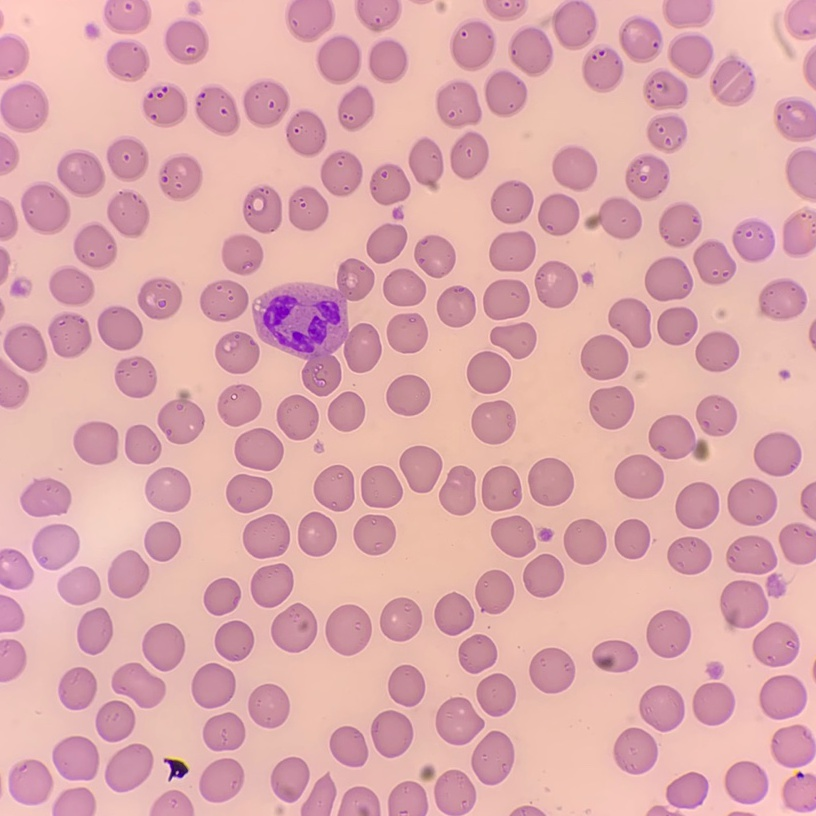RBC: (252, 259, 380, 395), (509, 0, 596, 76), (649, 415, 708, 459), (22, 182, 69, 233), (158, 390, 203, 443), (0, 82, 48, 131), (112, 663, 165, 707), (727, 478, 776, 525), (585, 197, 641, 238), (720, 580, 767, 628), (471, 731, 513, 784), (105, 744, 152, 791), (326, 605, 371, 654), (710, 55, 754, 105), (195, 85, 239, 135), (57, 150, 104, 196), (436, 697, 482, 744), (271, 604, 316, 652), (451, 21, 495, 70), (243, 81, 289, 127), (528, 458, 573, 505), (436, 81, 481, 127), (639, 685, 684, 731), (759, 675, 806, 719), (317, 35, 360, 83), (615, 455, 663, 498), (668, 32, 713, 77), (33, 524, 78, 569), (529, 648, 574, 693), (581, 335, 627, 379), (754, 432, 800, 476), (645, 257, 692, 300), (647, 610, 690, 657), (609, 298, 650, 347), (164, 18, 208, 63), (613, 728, 657, 773), (619, 16, 662, 62), (159, 154, 202, 200), (626, 154, 669, 200), (52, 736, 98, 779), (4, 324, 46, 371), (142, 623, 184, 670), (286, 0, 334, 41), (758, 279, 806, 320), (146, 467, 190, 511), (8, 760, 52, 804), (753, 623, 798, 666), (535, 261, 577, 307), (676, 482, 718, 528), (243, 515, 289, 557), (485, 69, 526, 116), (107, 190, 148, 237), (200, 280, 247, 321), (235, 429, 282, 470), (726, 535, 776, 573), (143, 82, 186, 126), (553, 146, 596, 190), (98, 306, 142, 349), (74, 421, 118, 464), (659, 202, 701, 247), (74, 223, 116, 268), (564, 519, 606, 564), (400, 446, 441, 492), (371, 711, 412, 757), (21, 478, 70, 516), (192, 664, 235, 707), (771, 725, 815, 767), (199, 759, 243, 801), (107, 136, 148, 181), (694, 239, 735, 284), (583, 45, 623, 91), (286, 110, 326, 156), (108, 551, 148, 597), (590, 386, 633, 428), (472, 401, 515, 443), (321, 151, 362, 195), (49, 313, 90, 357), (435, 770, 475, 815), (483, 280, 529, 319), (692, 683, 734, 725), (725, 761, 767, 803), (106, 40, 149, 81), (467, 352, 510, 393), (248, 684, 289, 727), (643, 69, 687, 109), (277, 395, 317, 439), (490, 231, 535, 270), (314, 465, 353, 510), (491, 181, 532, 223), (733, 220, 774, 262), (216, 332, 258, 373), (251, 564, 292, 606), (380, 598, 421, 640), (138, 278, 181, 318), (491, 516, 534, 556), (482, 466, 521, 510), (243, 187, 281, 232), (226, 474, 271, 512), (451, 132, 488, 178), (115, 356, 156, 397), (696, 331, 738, 371), (387, 375, 429, 415), (218, 385, 260, 425), (440, 466, 475, 514), (523, 554, 563, 596), (776, 97, 815, 140), (271, 757, 309, 801), (538, 194, 578, 235), (361, 466, 401, 507), (415, 235, 454, 277), (369, 39, 407, 82), (289, 187, 327, 230), (50, 267, 93, 305), (298, 512, 336, 555), (475, 570, 513, 613), (696, 395, 736, 435), (354, 515, 395, 554), (667, 537, 710, 574), (338, 86, 374, 130), (409, 139, 442, 187), (77, 608, 112, 653), (370, 164, 409, 204), (222, 235, 262, 274), (387, 313, 427, 352), (435, 593, 473, 634), (477, 674, 515, 715), (58, 567, 100, 604), (59, 667, 96, 709), (491, 323, 535, 358), (647, 113, 686, 152), (437, 286, 475, 326), (96, 701, 134, 741), (104, 0, 150, 33), (203, 713, 244, 750), (383, 269, 425, 305), (367, 224, 406, 262), (215, 621, 253, 660), (330, 726, 367, 766), (779, 523, 815, 564), (388, 665, 424, 706), (786, 148, 815, 198), (657, 307, 696, 344), (783, 211, 815, 256), (666, 773, 707, 808), (355, 0, 400, 31), (459, 635, 496, 672), (328, 392, 364, 430), (593, 640, 637, 671), (663, 0, 713, 27), (125, 425, 160, 463), (145, 522, 180, 560), (615, 519, 649, 558), (0, 361, 28, 408), (204, 578, 240, 614), (301, 777, 335, 815), (388, 782, 427, 815), (0, 549, 32, 589), (0, 34, 28, 79), (783, 774, 815, 811), (338, 787, 380, 815), (52, 788, 95, 815), (0, 639, 26, 681), (150, 790, 193, 815), (788, 0, 815, 36), (484, 0, 527, 20), (0, 595, 23, 631), (0, 134, 18, 174), (0, 199, 16, 239), (801, 483, 815, 518), (804, 49, 815, 84), (767, 575, 785, 595), (11, 278, 30, 295), (0, 249, 9, 280), (170, 760, 186, 777), (513, 806, 541, 815), (707, 662, 722, 678), (420, 765, 434, 780), (85, 23, 99, 37), (648, 806, 668, 815), (539, 528, 551, 541), (188, 1, 199, 14), (809, 323, 815, 343), (583, 273, 592, 283)
